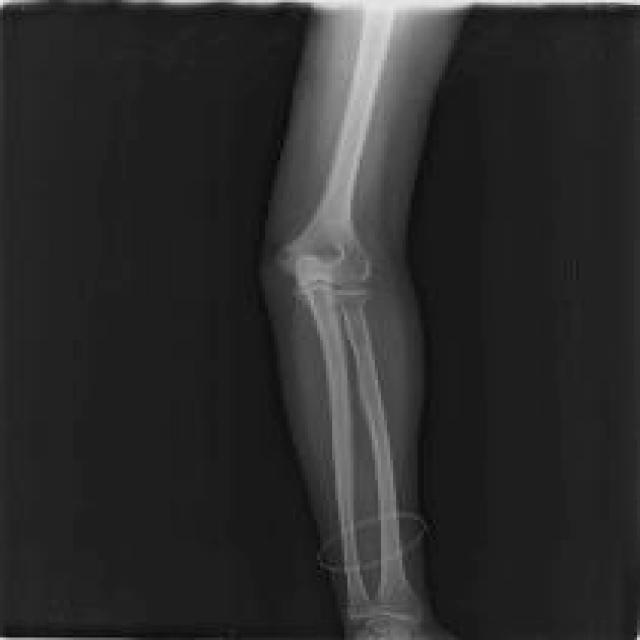normal: (285, 8, 442, 639)
